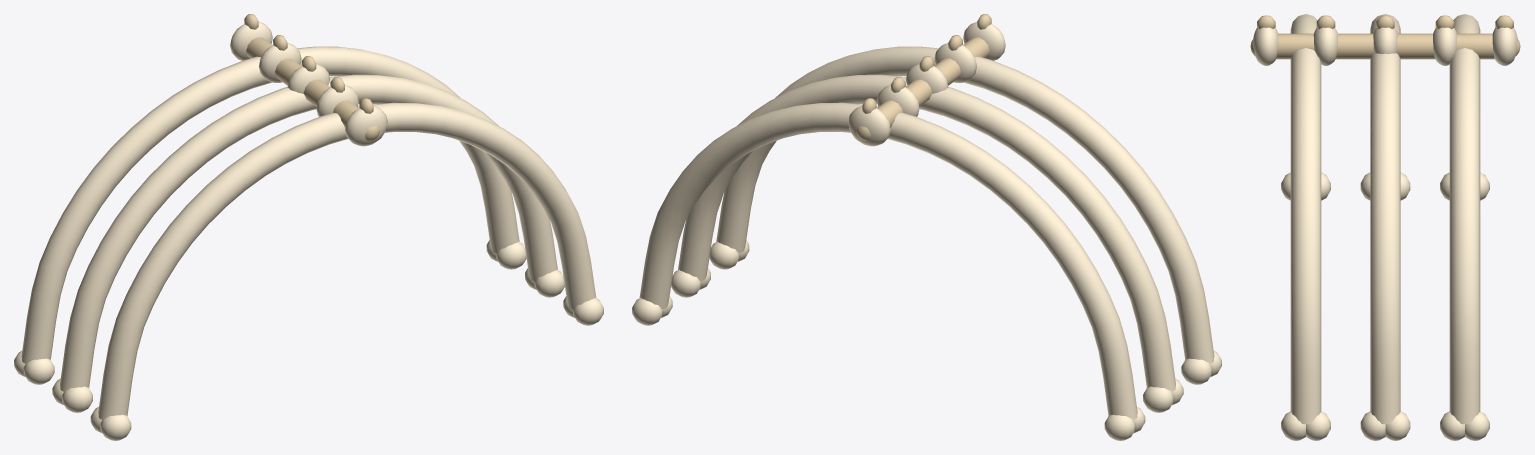
Rendered from bone_arch.glb.
The picture shows the model from 3 angles, left to right: view 1: azimuth 30°, elevation 25°; view 2: azimuth 150°, elevation 25°; view 3: azimuth 270°, elevation 25°; orthographic projection. The views are drawn at different scales.
Parts seen in each view (by area): view 1: bone_arch; view 2: bone_arch; view 3: bone_arch.
Part boxes in pixels (x1,y1,x2,y2): bone_arch: [14, 14, 603, 440]; bone_arch: [632, 14, 1221, 440]; bone_arch: [1250, 14, 1520, 440].
Bounding box in the file's own units: 19.57 × 10.99 × 8.84.
